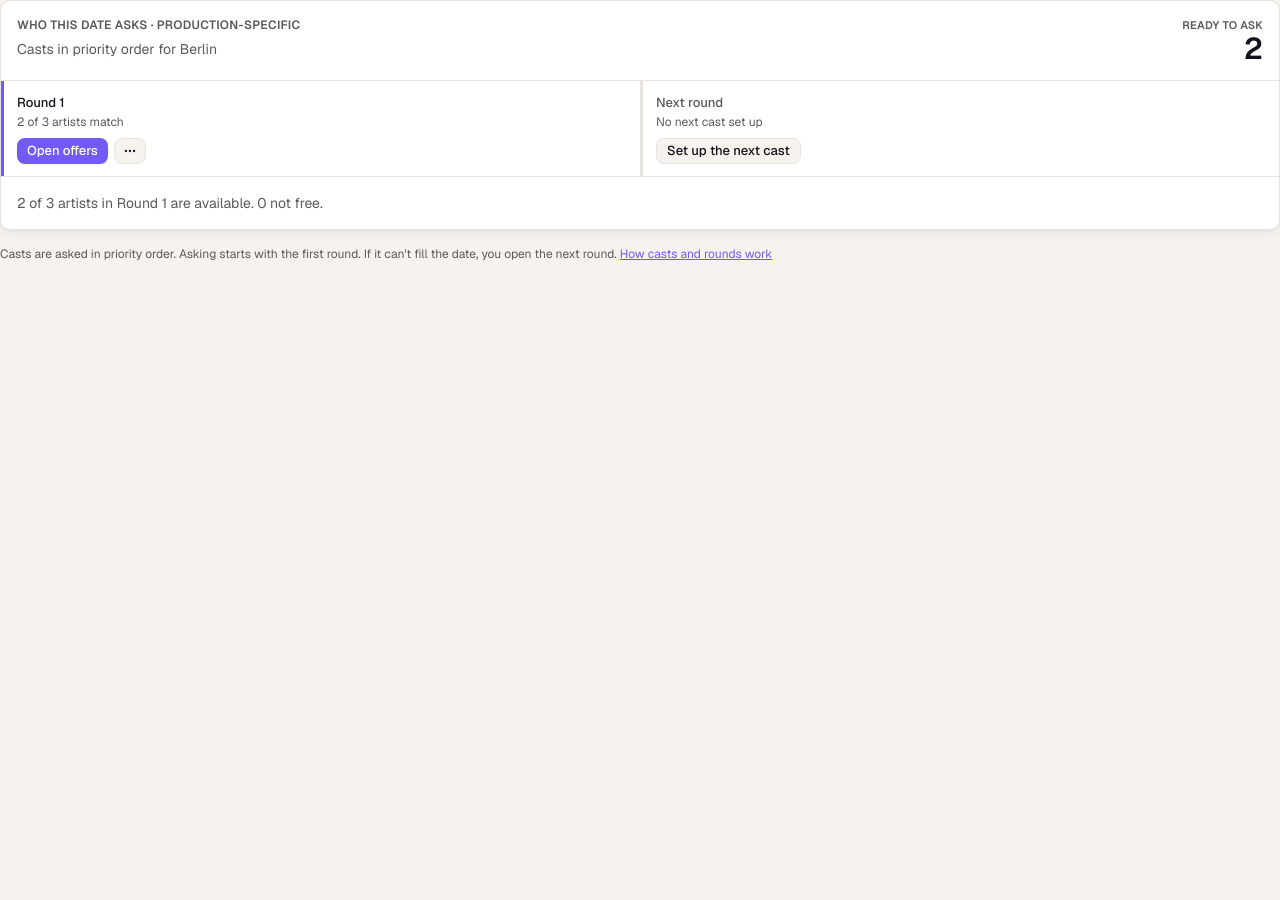
TierTimeline › confirm copy mentions the daily digest for digest delivery
The width and height of the screenshot is (1280, 900).
Click the button "Open offers". click: (62, 151)
box: [17,138,108,164]
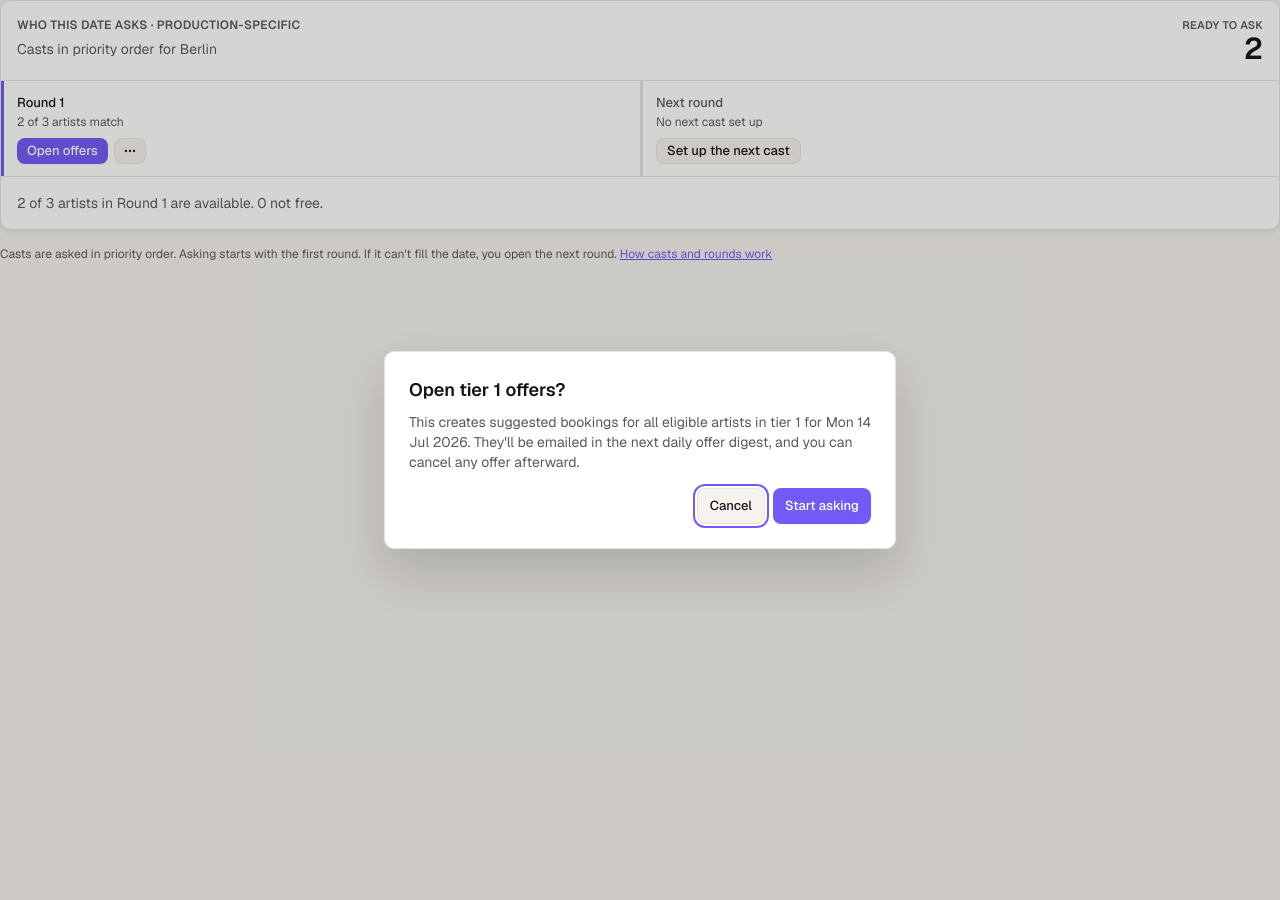
Expected: the text "next daily offer digest" is shown, [409,413,871,471]
